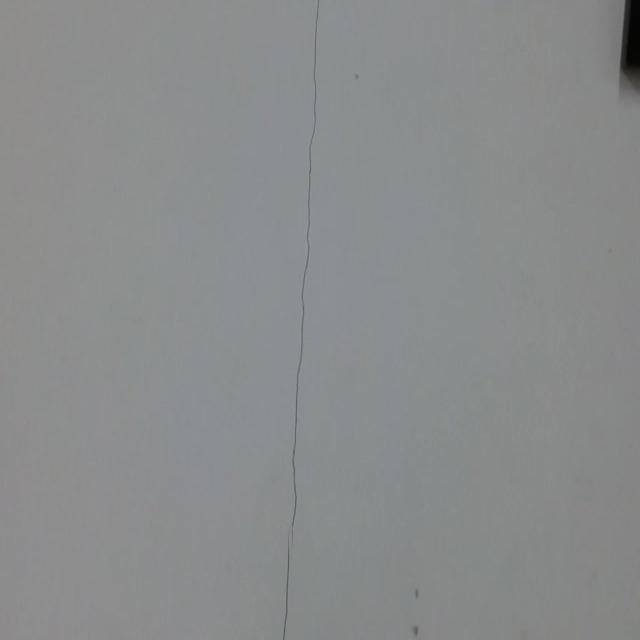Crack: (271, 0, 342, 640)
